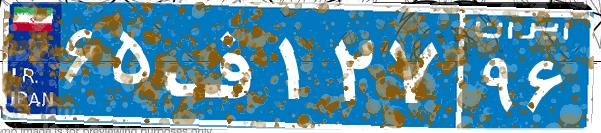1: (273, 28, 330, 110)
2: (330, 28, 385, 110)
5: (110, 28, 158, 105)
6: (57, 26, 110, 107), (525, 38, 570, 115)
7: (385, 28, 445, 110)
9: (475, 38, 525, 113)
ف: (158, 15, 273, 115)
